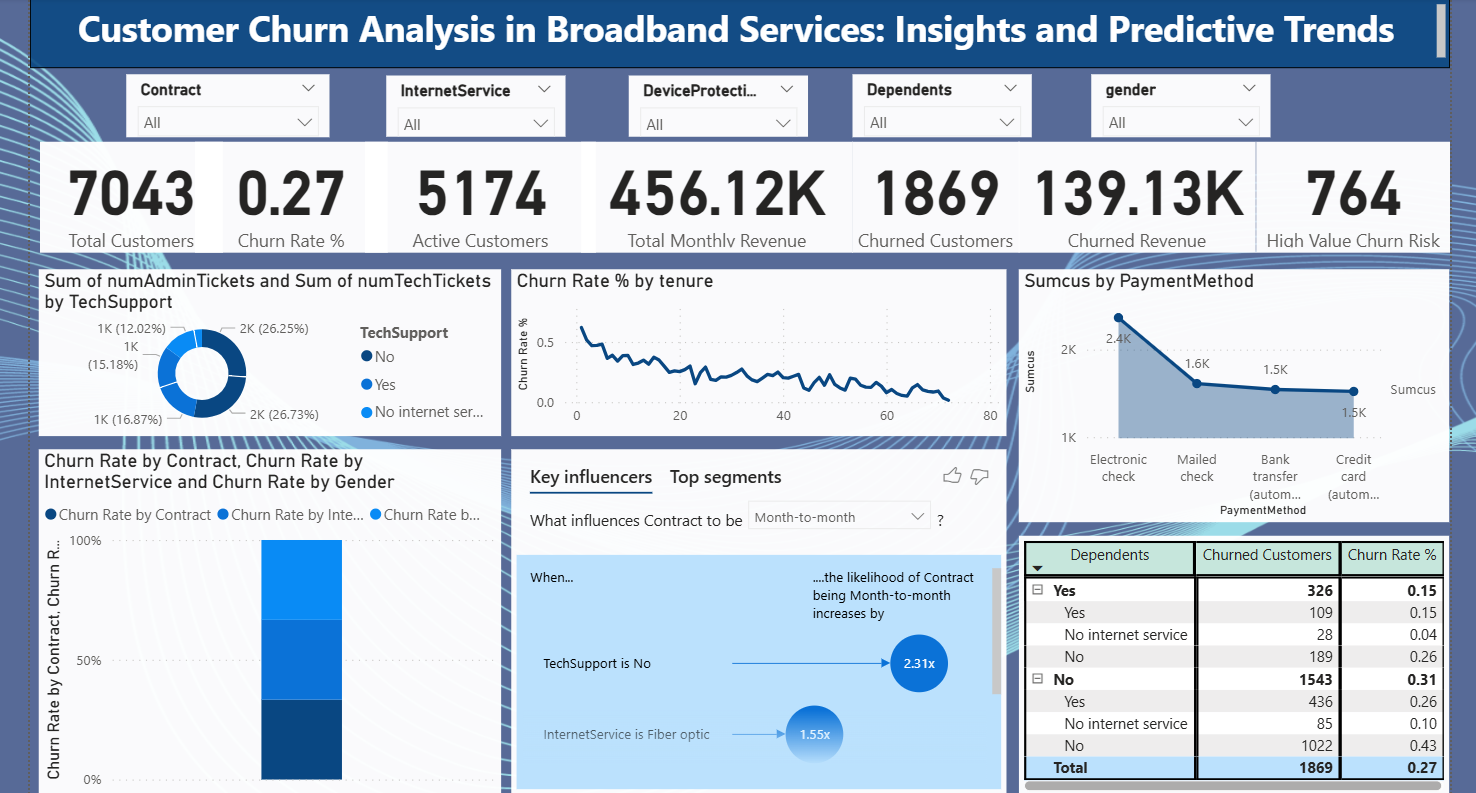

This screenshot's page, from the dashboard's own definition file:
{"tool":"powerbi","page":{"name":"Page 2","canvas":[1280,720],"ordinal":1},"visuals":[{"type":"card","fields":{"Values":["01 Churn-Dataset.Total Customers"]},"box":[0,130,173.3,100],"z":0},{"type":"card","fields":{"Values":["01 Churn-Dataset.Active Customers"]},"box":[301.7,130,208.3,100],"z":1000},{"type":"card","fields":{"Values":["01 Churn-Dataset.Churned Customers"]},"box":[741.7,130,150,100],"z":2000},{"type":"card","fields":{"Values":["01 Churn-Dataset.Churn Rate %"]},"box":[148.3,130,173.3,100],"z":3000},{"type":"card","fields":{"Values":["01 Churn-Dataset.Total Monthly Revenue"]},"box":[496.7,130,245,100],"z":4000},{"type":"card","fields":{"Values":["01 Churn-Dataset.Churned Revenue"]},"box":[891.7,130,213.3,100],"z":5000},{"type":"textbox","box":[0,0,1279.9,63.6],"z":6000},{"type":"hundredPercentStackedColumnChart","fields":{"Y":["01 Churn-Dataset.Churn Rate by Contract","01 Churn-Dataset.Churn Rate by InternetService","01 Churn-Dataset.Churn Rate by Gender"]},"box":[8.3,406.7,416.7,311.7],"z":7000},{"type":"pivotTable","fields":{"Rows":["01 Churn-Dataset.Dependents","01 Churn-Dataset.DeviceProtection"],"Values":["01 Churn-Dataset.Churned Customers","01 Churn-Dataset.Churn Rate %"]},"box":[891.7,485,388.3,235],"z":8000},{"type":"card","fields":{"Values":["01 Churn-Dataset.High Value Churn Risk"]},"box":[1105,130,161.7,100],"z":9000},{"type":"slicer","fields":{"Values":["01 Churn-Dataset.Contract"]},"box":[86.7,68.3,183.3,56.7],"z":10000},{"type":"slicer","fields":{"Values":["01 Churn-Dataset.InternetService"]},"box":[321.7,70,161.7,55],"z":11000},{"type":"slicer","fields":{"Values":["01 Churn-Dataset.DeviceProtection"]},"box":[540,70,161.7,55],"z":12000},{"type":"slicer","fields":{"Values":["01 Churn-Dataset.Dependents"]},"box":[741.7,68.3,161.7,56.7],"z":13000},{"type":"slicer","fields":{"Values":["01 Churn-Dataset.gender"]},"box":[956.7,68.3,161.7,56.7],"z":14000},{"type":"areaChart","fields":{"Category":["01 Churn-Dataset.PaymentMethod"],"Y":["01 Churn-Dataset.Sumcus"]},"box":[891.7,245,388.3,228.3],"z":15000},{"type":"donutChart","fields":{"Y":["Sum(01 Churn-Dataset.numAdminTickets)","Sum(01 Churn-Dataset.numTechTickets)"],"Category":["01 Churn-Dataset.TechSupport"]},"box":[8.3,245,416.7,150],"z":16000},{"type":"lineChart","fields":{"Category":["01 Churn-Dataset.tenure"],"Y":["01 Churn-Dataset.Churn Rate %"]},"box":[433.3,245,446.7,150],"z":17000},{"type":"keyDriversVisual","fields":{"Target":["01 Churn-Dataset.Contract"],"ExplainBy":["01 Churn-Dataset.TechSupport","Sum(01 Churn-Dataset.MonthlyCharges)","01 Churn-Dataset.InternetService"]},"box":[433.3,406.7,446.7,311.7],"z":18000}]}

Visuals, with their boxes in screenshot pixels (x1, y1, x2, y2):
card - 01 Churn-Dataset.Total Customers: <bbox>15, 138, 210, 251</bbox>
card - 01 Churn-Dataset.Active Customers: <bbox>355, 138, 589, 251</bbox>
card - 01 Churn-Dataset.Churned Customers: <bbox>849, 138, 1018, 251</bbox>
card - 01 Churn-Dataset.Churn Rate %: <bbox>182, 138, 377, 251</bbox>
card - 01 Churn-Dataset.Total Monthly Revenue: <bbox>574, 138, 849, 251</bbox>
card - 01 Churn-Dataset.Churned Revenue: <bbox>1018, 138, 1258, 251</bbox>
textbox: <bbox>15, 0, 1454, 64</bbox>
hundredPercentStackedColumnChart - 01 Churn-Dataset.Churn Rate by Contract x 01 Churn-Dataset.Churn Rate by InternetService: <bbox>25, 450, 493, 792</bbox>
pivotTable - 01 Churn-Dataset.Dependents x 01 Churn-Dataset.DeviceProtection: <bbox>1018, 538, 1455, 792</bbox>
card - 01 Churn-Dataset.High Value Churn Risk: <bbox>1258, 138, 1440, 251</bbox>
slicer - 01 Churn-Dataset.Contract: <bbox>113, 69, 319, 133</bbox>
slicer - 01 Churn-Dataset.InternetService: <bbox>377, 71, 559, 133</bbox>
slicer - 01 Churn-Dataset.DeviceProtection: <bbox>623, 71, 804, 133</bbox>
slicer - 01 Churn-Dataset.Dependents: <bbox>849, 69, 1031, 133</bbox>
slicer - 01 Churn-Dataset.gender: <bbox>1091, 69, 1273, 133</bbox>
areaChart - 01 Churn-Dataset.PaymentMethod x 01 Churn-Dataset.Sumcus: <bbox>1018, 268, 1455, 524</bbox>
donutChart - Sum(01 Churn-Dataset.numAdminTickets) x Sum(01 Churn-Dataset.numTechTickets): <bbox>25, 268, 493, 436</bbox>
lineChart - 01 Churn-Dataset.tenure x 01 Churn-Dataset.Churn Rate %: <bbox>503, 268, 1005, 436</bbox>
keyDriversVisual - 01 Churn-Dataset.Contract x 01 Churn-Dataset.TechSupport: <bbox>503, 450, 1005, 792</bbox>
